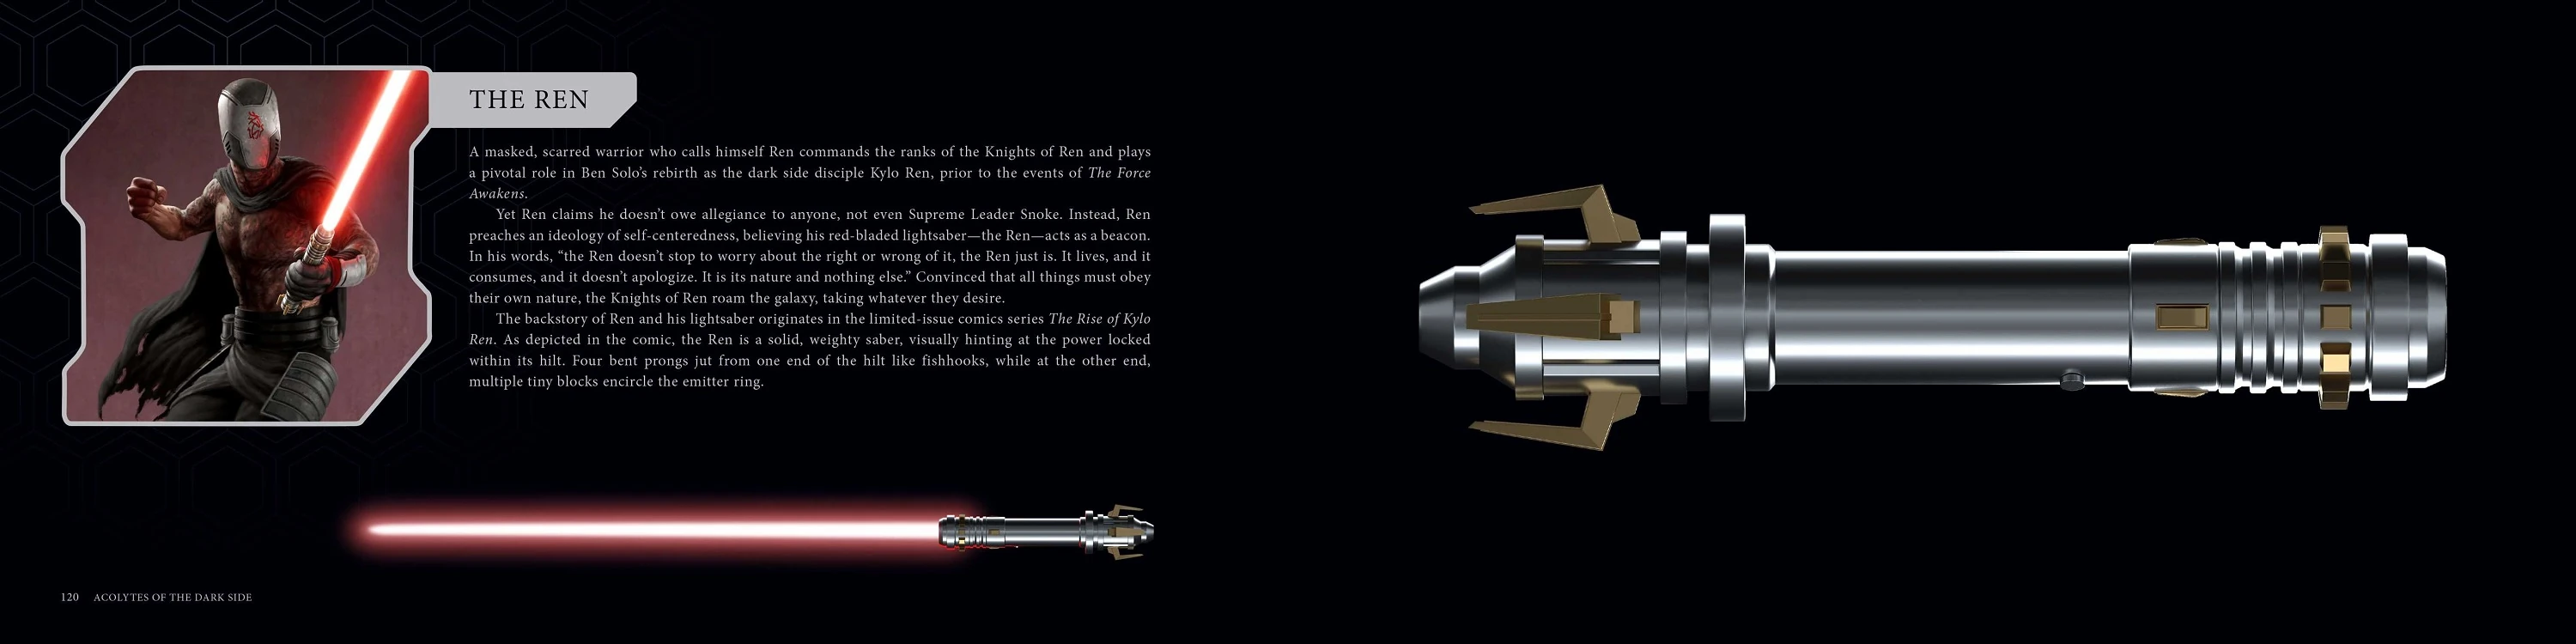Dalek: (1396, 166, 2472, 465)
cats: (356, 504, 1158, 560), (273, 61, 424, 320)
